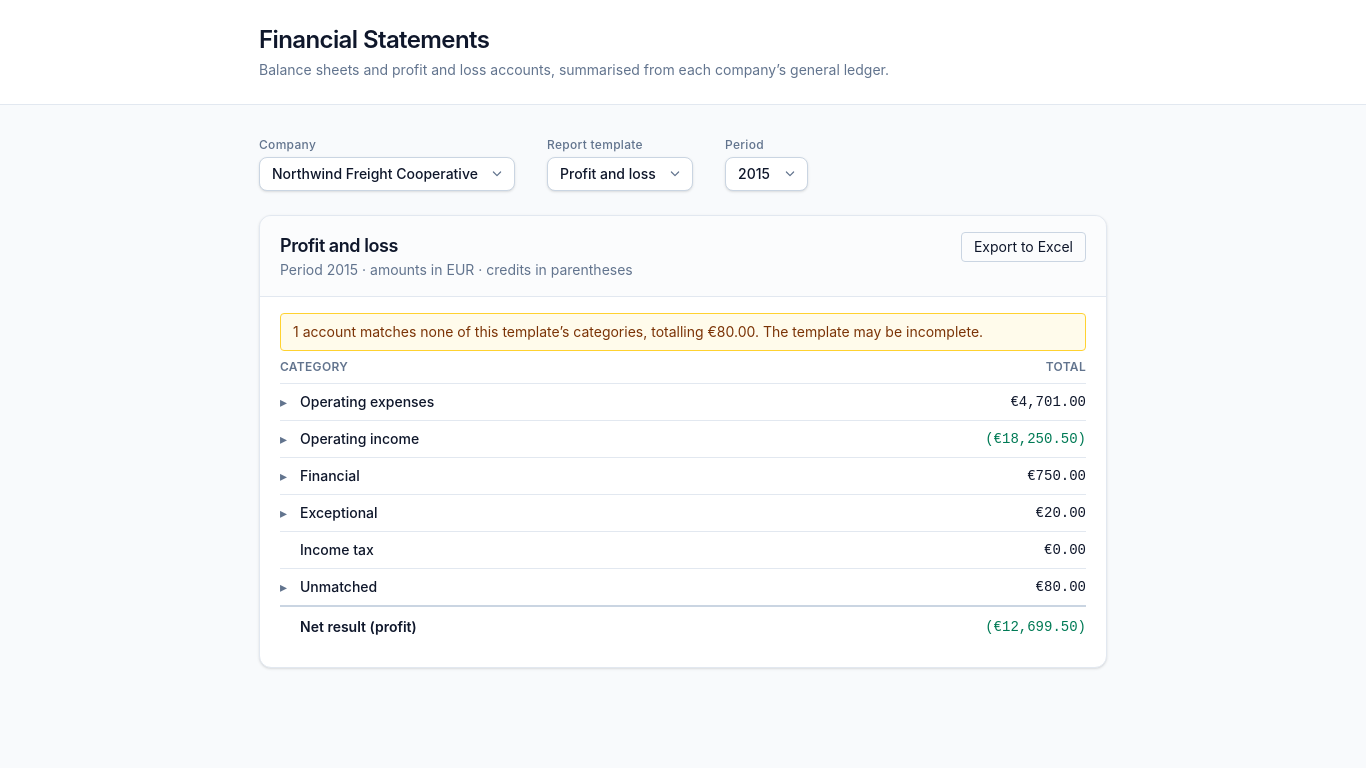
Scenario: changing ReportTemplate falls back to the latest Period when the new one lacks it
Select "Balance sheet" in the dropdown labelled "Report template": [620, 174] box x1=547 y1=157 x2=693 y2=191
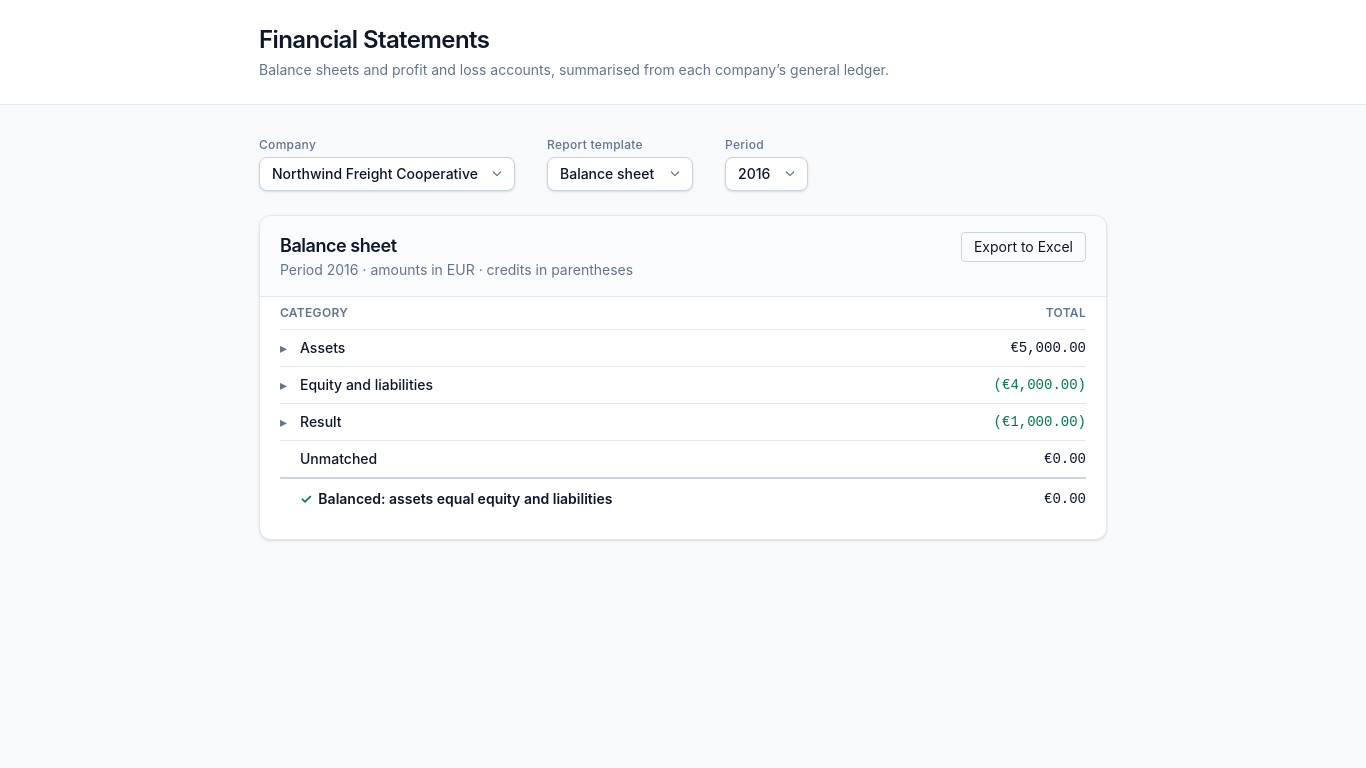
Expected: the row "Assets €5,000.00" is shown, x1=280 y1=330 x2=1086 y2=366
Expected: the dropdown labelled "Period" shows "2016", x1=725 y1=157 x2=808 y2=191
